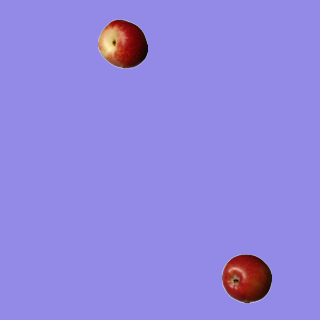Apple Braeburn: (221, 253, 271, 303)
Nectarine: (97, 18, 147, 68)
